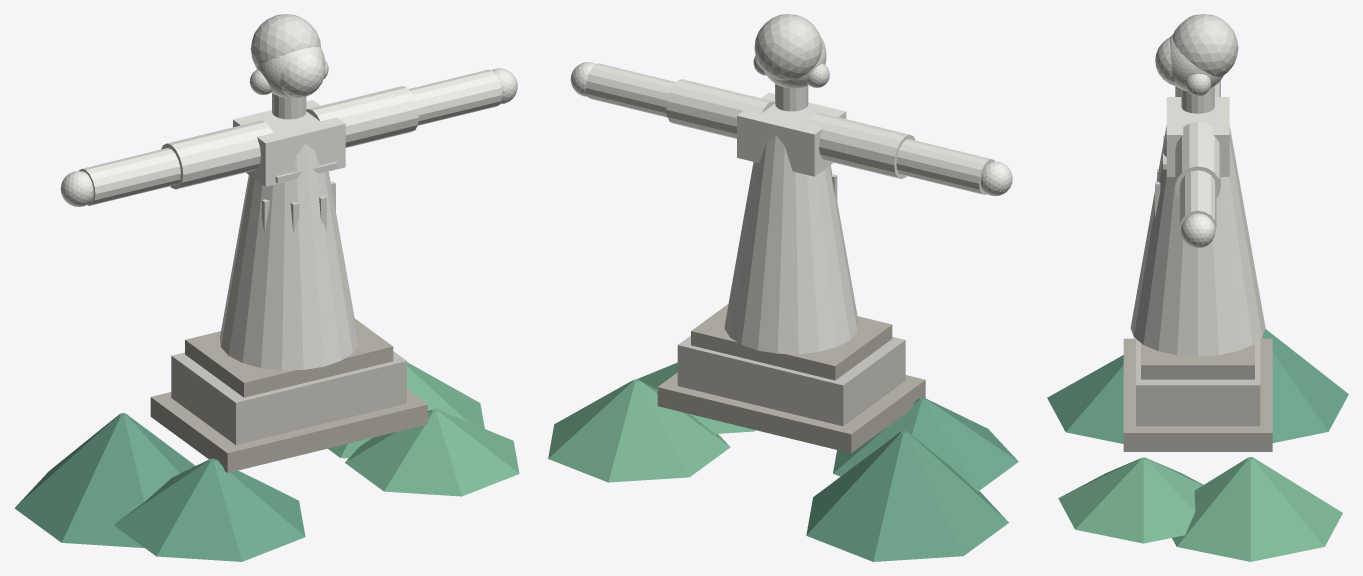
Rendered from cristo_redentor_estilizado.glb.
The picture shows the model from 3 angles, left to right: view 1: azimuth 30°, elevation 25°; view 2: azimuth 150°, elevation 25°; view 3: azimuth 270°, elevation 25°; orthographic projection. The views are drawn at different scales.
Parts seen in each view (by area): view 1: 04_robe_stone, 16_corcovado_rock_2, 16_corcovado_rock_0, 02_pedestal_riser, 16_corcovado_rock_3, 01_pedestal_lower, 03_pedestal_upper, 06_shoulders, 07_sleeve_inner_-1, 07_sleeve_inner_1, 08_sleeve_outer_-1, 08_sleeve_outer_1 (+6 smaller); view 2: 04_robe_stone, 16_corcovado_rock_0, 16_corcovado_rock_1, 02_pedestal_riser, 01_pedestal_lower, 16_corcovado_rock_2, 03_pedestal_upper, 06_shoulders, 07_sleeve_inner_-1, 07_sleeve_inner_1, 12_hair_cap, 08_sleeve_outer_-1 (+4 smaller); view 3: 04_robe_stone, 16_corcovado_rock_1, 16_corcovado_rock_3, 02_pedestal_riser, 01_pedestal_lower, 16_corcovado_rock_0, 16_corcovado_rock_2, 03_pedestal_upper, 12_hair_cap, 06_shoulders, 07_sleeve_inner_1, 08_sleeve_outer_1 (+5 smaller).
Part boxes in pixels (box(x1,y1,x2,y2)): 04_robe_stone: box(220, 143, 358, 370); 16_corcovado_rock_2: box(114, 458, 305, 561); 16_corcovado_rock_0: box(14, 413, 195, 548); 02_pedestal_riser: box(171, 351, 406, 444); 16_corcovado_rock_3: box(345, 409, 519, 496); 01_pedestal_lower: box(150, 389, 427, 472); 03_pedestal_upper: box(185, 318, 393, 397); 06_shoulders: box(233, 100, 345, 186); 07_sleeve_inner_-1: box(161, 120, 272, 189); 07_sleeve_inner_1: box(306, 86, 418, 147); 08_sleeve_outer_-1: box(79, 148, 180, 205); 08_sleeve_outer_1: box(408, 69, 501, 125); 04_robe_stone: box(724, 135, 858, 354); 16_corcovado_rock_0: box(806, 430, 1008, 561); 16_corcovado_rock_1: box(548, 379, 730, 482); 02_pedestal_riser: box(677, 335, 905, 426); 01_pedestal_lower: box(657, 372, 925, 453); 16_corcovado_rock_2: box(833, 397, 1018, 491); 03_pedestal_upper: box(691, 304, 892, 380); 06_shoulders: box(737, 92, 846, 176); 07_sleeve_inner_-1: box(807, 112, 915, 178); 07_sleeve_inner_1: box(666, 79, 774, 138); 12_hair_cap: box(754, 14, 822, 80); 08_sleeve_outer_-1: box(896, 139, 994, 194); 04_robe_stone: box(1130, 126, 1265, 356); 16_corcovado_rock_1: box(1172, 457, 1342, 561); 16_corcovado_rock_3: box(1058, 457, 1203, 543); 02_pedestal_riser: box(1136, 339, 1260, 426); 01_pedestal_lower: box(1123, 338, 1272, 451); 16_corcovado_rock_0: box(1261, 329, 1348, 442); 16_corcovado_rock_2: box(1047, 355, 1123, 443); 03_pedestal_upper: box(1141, 343, 1254, 379); 12_hair_cap: box(1172, 14, 1238, 77); 06_shoulders: box(1166, 97, 1229, 176); 07_sleeve_inner_1: box(1175, 122, 1220, 197); 08_sleeve_outer_1: box(1179, 170, 1216, 230).
Size of the model in its own units: 5.76 by 5.71 by 3.44.
